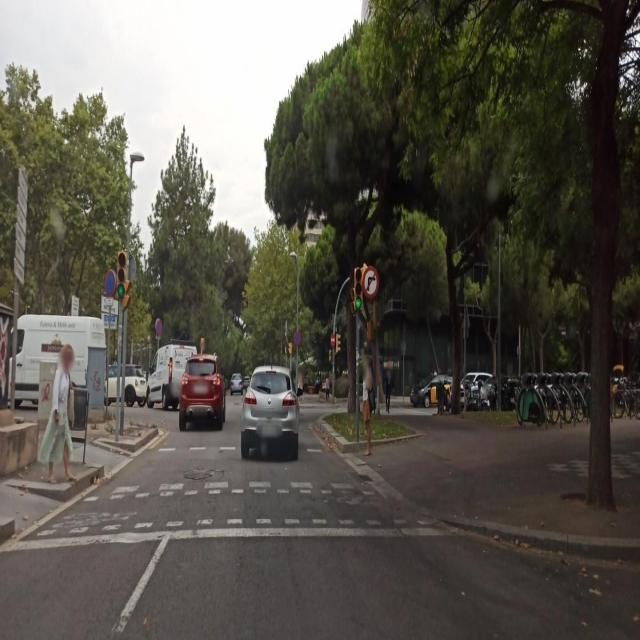forb_stopping: (104, 270, 116, 298), (294, 331, 302, 345), (156, 319, 162, 337)
